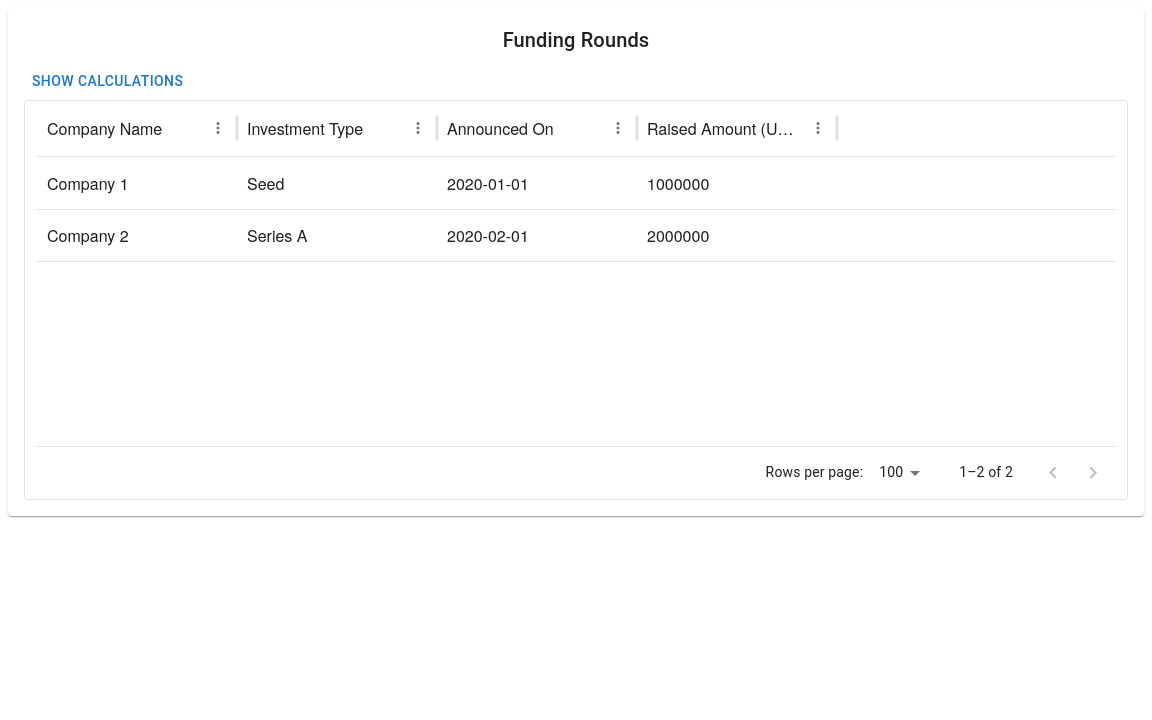
🔢displays calculations on button click
Click the button "Show Calculations" at (108, 81), box [24,63,191,100]
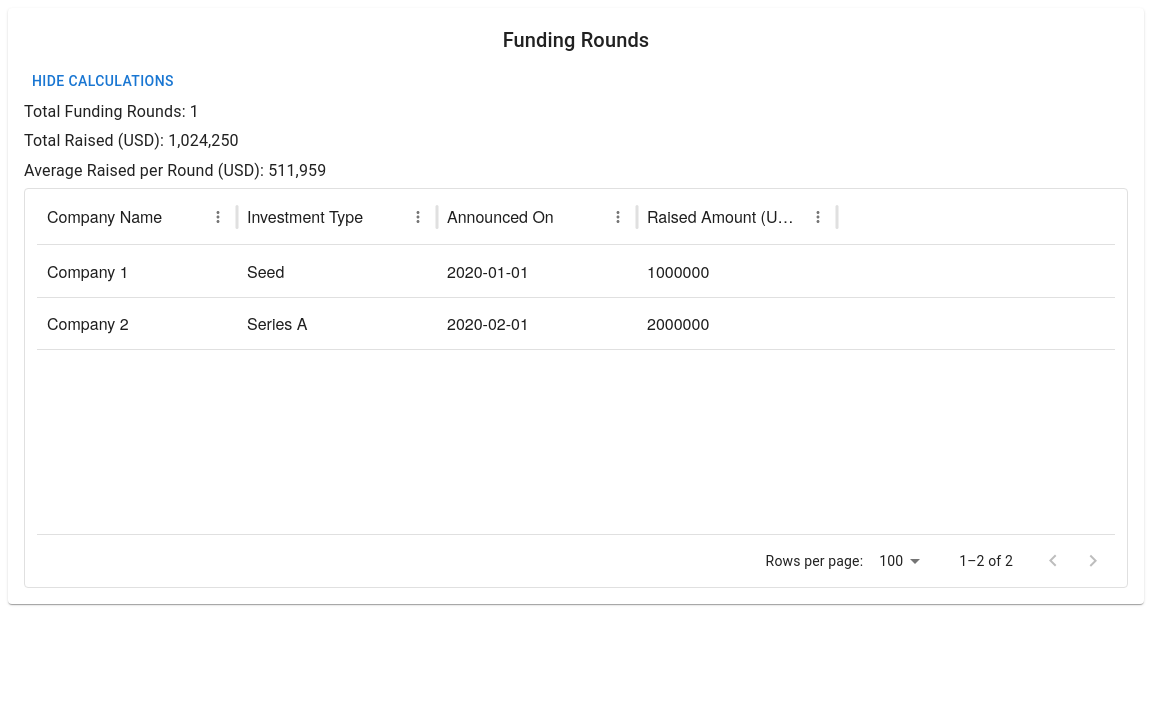
Expected: the text "Total Funding Rounds: 1" is shown, [24,102,199,120]
Expected: the text "Total Raised (USD): 1,024,250" is shown, [24,131,239,150]
Expected: the text "Average Raised per Round (USD): 511,959" is shown, [24,161,326,180]
